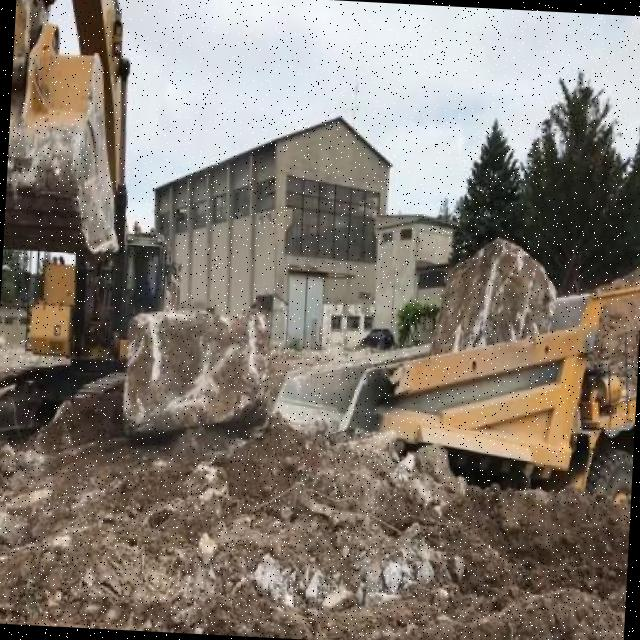Dump Truck: (265, 260, 640, 516)
Excavator: (0, 0, 196, 458)
